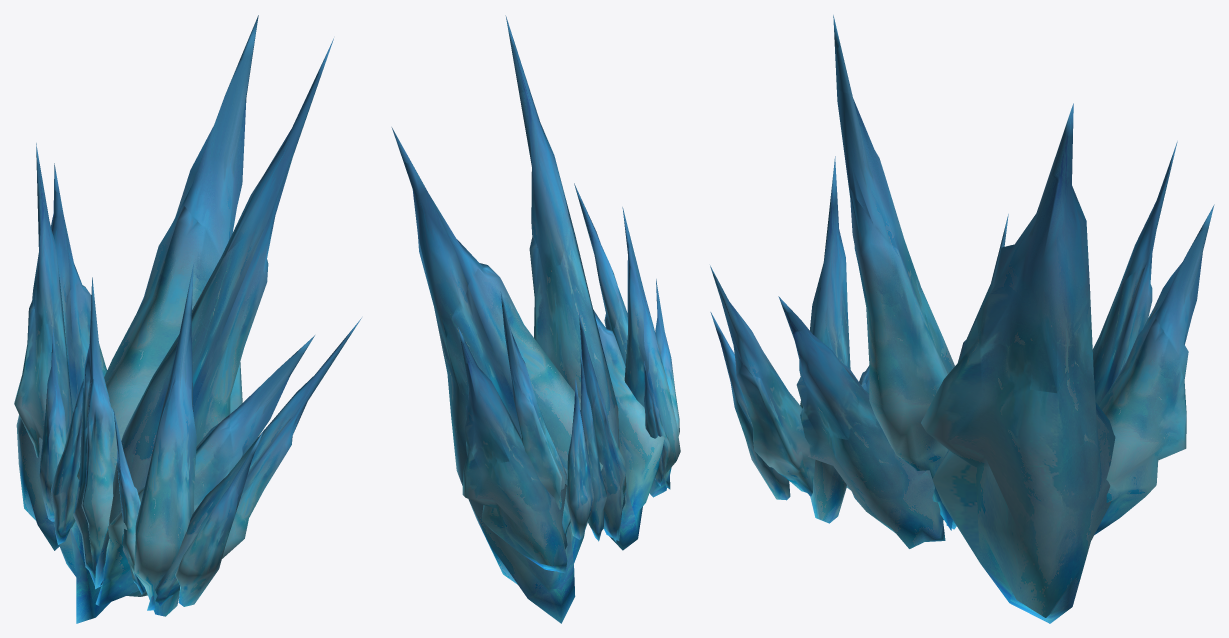
Rendered from IceWall2.fbx.
3 views of the same model, side by side, from view 1: azimuth 30°, elevation 25°; view 2: azimuth 150°, elevation 25°; view 3: azimuth 270°, elevation 25° (orthographic). The views are drawn at different scales.
Visible parts, largest first — view 1: 8fx_jaina_icewall; view 2: 8fx_jaina_icewall; view 3: 8fx_jaina_icewall.
Part boxes in pixels (left/top/right/bottom): 8fx_jaina_icewall: left=14, top=15, right=361, bottom=623; 8fx_jaina_icewall: left=391, top=15, right=680, bottom=623; 8fx_jaina_icewall: left=710, top=15, right=1214, bottom=623.
Size of the model in its own units: 2177 by 5507 by 3602.
